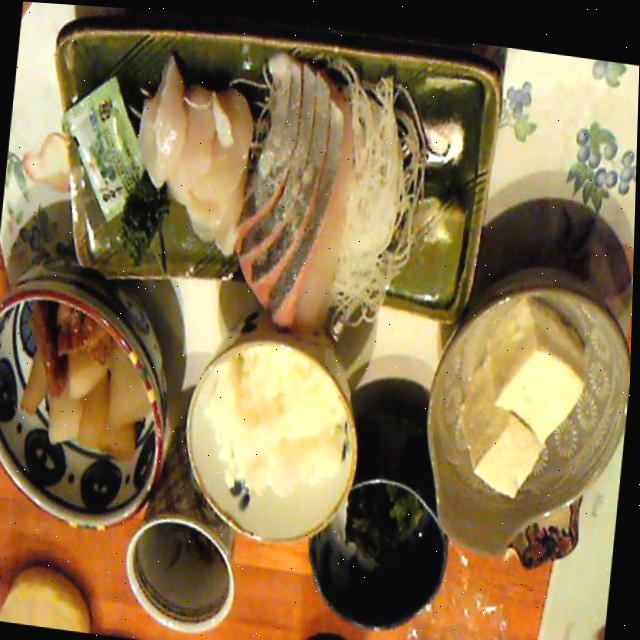米饭主食: (176, 321, 372, 555)
